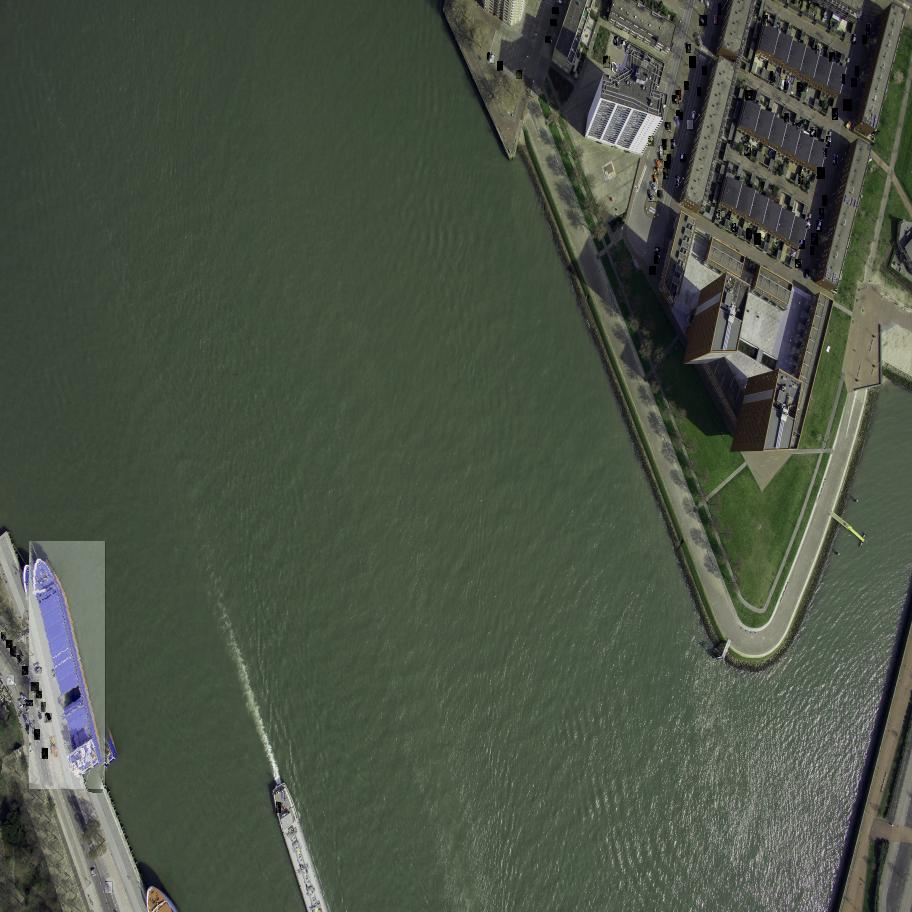ship: (25, 540, 111, 789), (277, 802, 282, 813), (282, 792, 284, 801)
small-vehicle: (30, 682, 41, 692), (34, 729, 43, 741), (105, 882, 114, 894), (753, 233, 762, 245), (817, 168, 826, 180), (699, 16, 709, 26), (7, 675, 16, 686), (10, 647, 19, 658), (844, 100, 853, 111), (811, 234, 820, 245), (689, 56, 697, 68), (604, 57, 612, 68), (676, 110, 684, 121), (650, 182, 658, 193), (745, 145, 753, 156), (648, 191, 656, 202), (832, 108, 839, 120), (816, 220, 823, 232), (29, 720, 38, 729), (21, 666, 30, 675), (0, 632, 9, 641), (796, 120, 804, 130), (648, 136, 655, 147), (625, 43, 632, 54), (857, 9, 864, 20), (5, 640, 14, 648), (35, 691, 43, 700), (23, 705, 31, 714), (35, 667, 44, 675), (17, 636, 26, 644), (550, 20, 559, 28), (672, 96, 680, 105), (795, 260, 803, 269), (46, 713, 53, 723), (42, 749, 49, 759), (497, 61, 504, 71), (746, 91, 753, 101), (674, 117, 681, 127), (746, 229, 753, 239), (862, 35, 869, 45), (810, 127, 817, 137), (829, 52, 836, 62), (819, 209, 825, 220), (649, 267, 657, 275), (25, 700, 34, 707), (799, 240, 806, 249), (653, 175, 660, 184), (664, 161, 671, 170), (797, 83, 804, 92), (42, 703, 48, 713), (676, 90, 682, 100), (688, 120, 694, 130), (763, 15, 769, 25), (798, 174, 804, 184), (517, 71, 524, 79), (621, 41, 628, 49), (654, 248, 661, 256), (852, 79, 859, 87), (663, 168, 668, 179), (823, 195, 828, 206), (17, 656, 23, 665), (487, 53, 493, 62), (684, 81, 690, 90), (654, 255, 660, 264), (852, 34, 857, 44), (552, 7, 559, 14), (702, 67, 708, 75), (654, 168, 660, 176), (681, 153, 686, 162), (618, 39, 623, 48), (662, 139, 666, 150), (657, 191, 663, 198), (491, 56, 496, 64), (665, 122, 670, 130), (545, 37, 551, 43), (687, 44, 691, 53), (667, 155, 671, 164), (659, 153, 663, 162), (658, 160, 661, 172), (770, 71, 773, 83), (732, 223, 736, 232), (785, 113, 789, 122), (867, 24, 870, 35), (718, 4, 721, 14), (717, 210, 720, 220), (806, 269, 809, 279), (782, 80, 785, 90), (826, 136, 829, 146), (92, 868, 95, 877), (681, 103, 684, 112), (697, 88, 700, 96), (824, 149, 827, 157), (616, 65, 619, 72), (777, 23, 780, 30), (811, 247, 814, 254), (834, 154, 836, 164), (615, 36, 617, 45), (661, 147, 663, 156), (842, 74, 844, 83), (715, 16, 717, 24), (693, 111, 695, 119), (856, 67, 858, 75), (816, 46, 818, 54), (676, 176, 677, 186), (807, 219, 808, 228), (672, 140, 673, 148), (613, 63, 614, 71)
